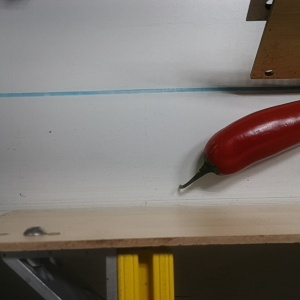Cut Point: (196, 142, 233, 178)
